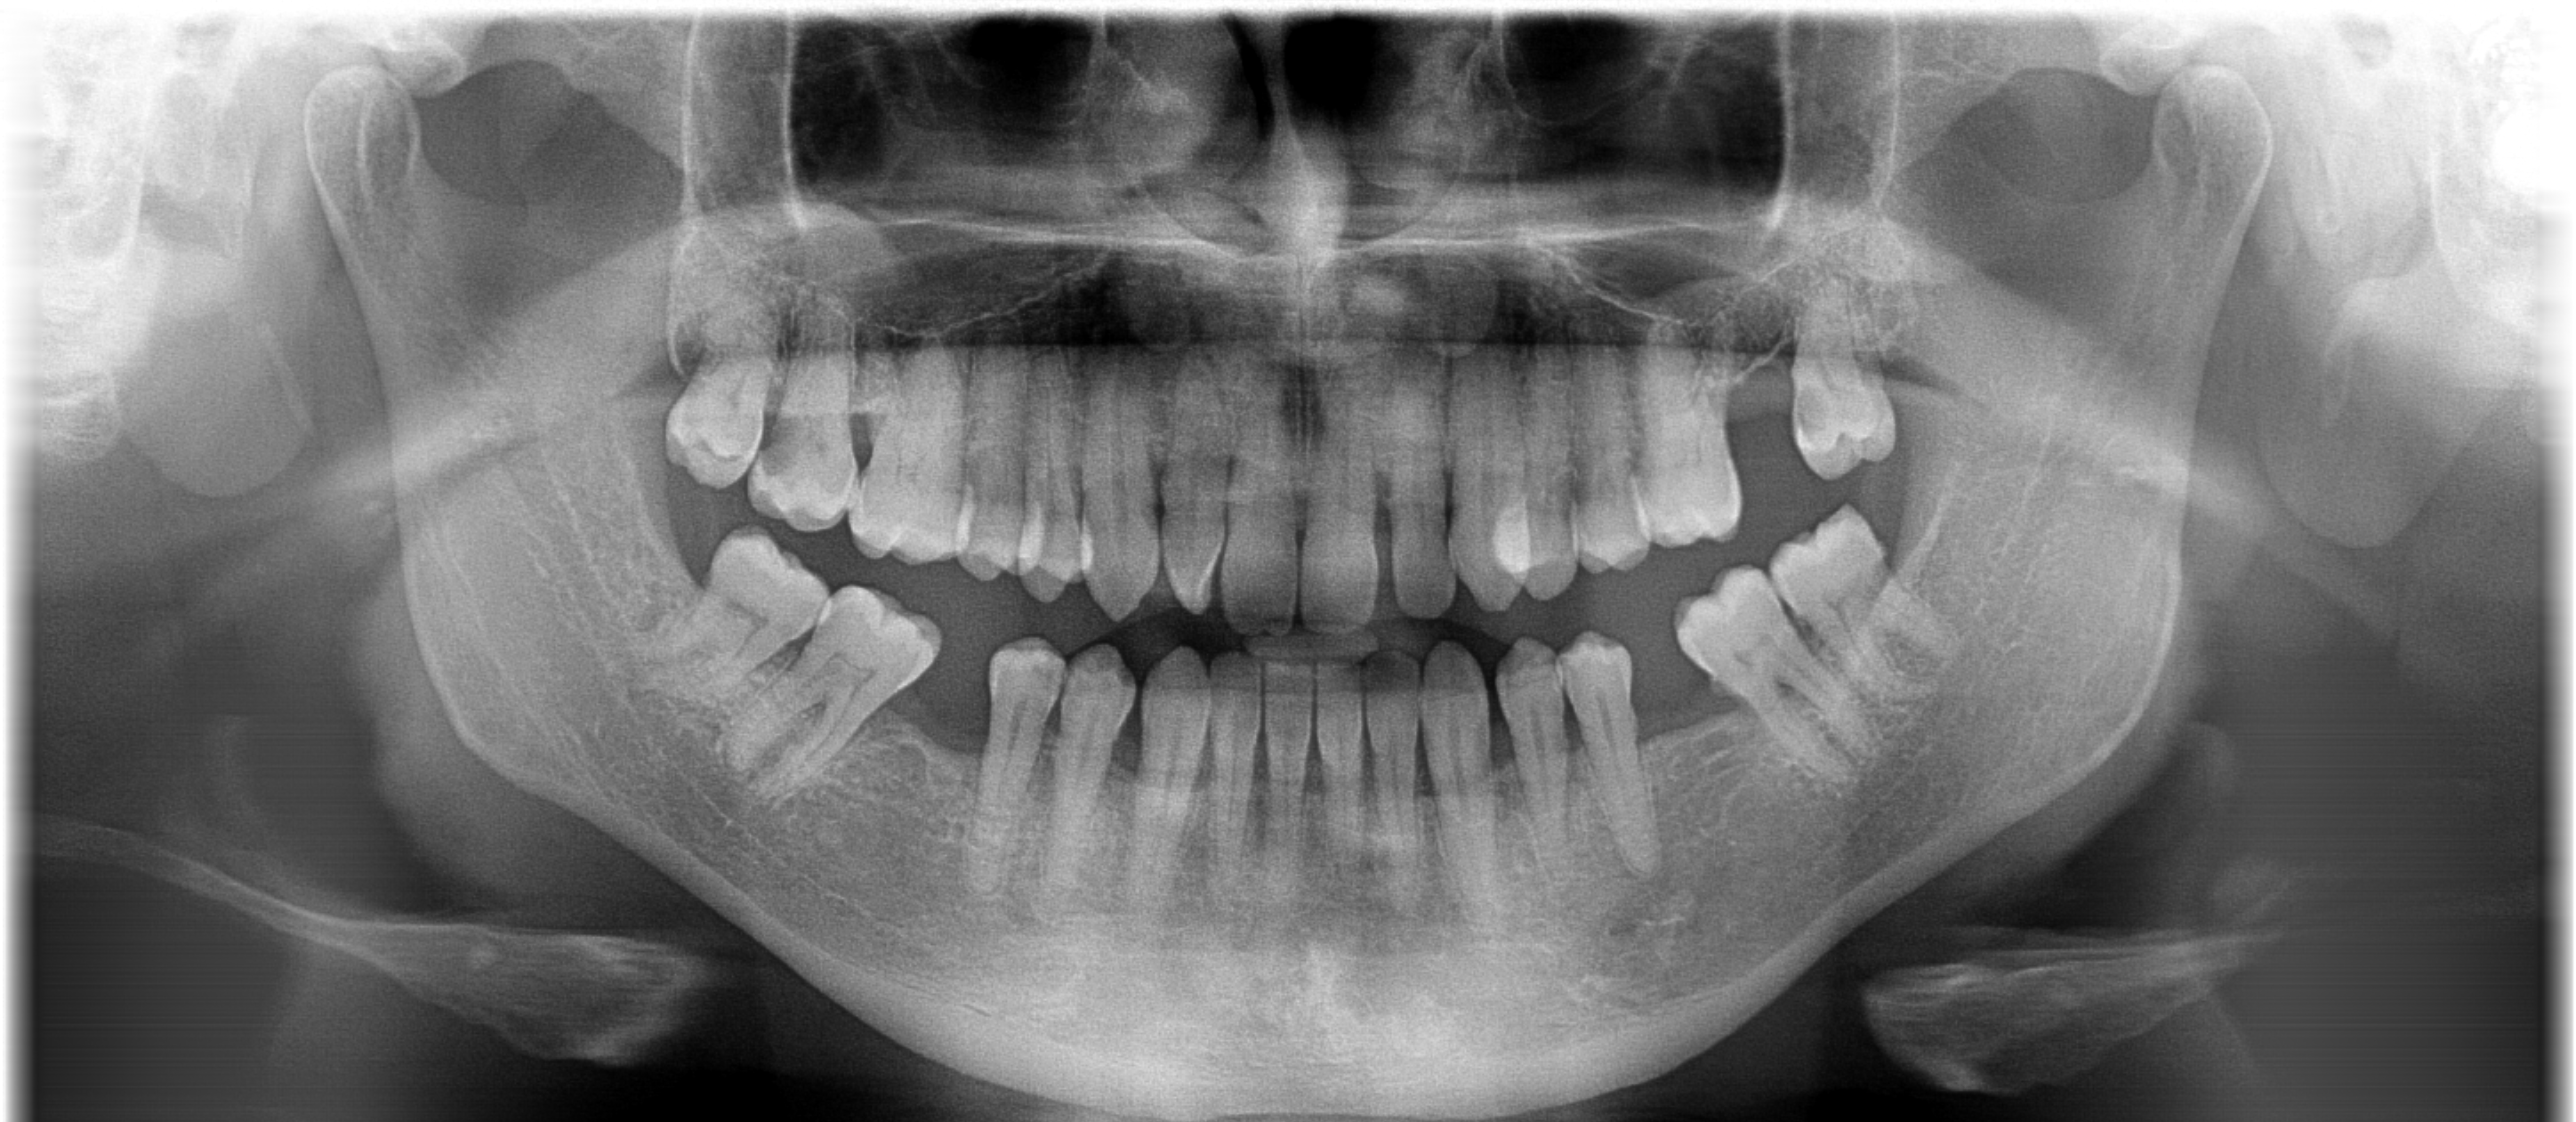cordal: (1723, 485, 1973, 734), (1763, 253, 1948, 499), (651, 498, 836, 744), (626, 273, 812, 519)
diastema: (1096, 647, 1171, 889), (1354, 373, 1421, 626), (1469, 624, 1536, 876)
zona_dentula: (1658, 317, 1848, 531), (1587, 606, 1776, 820), (833, 613, 1022, 826)
